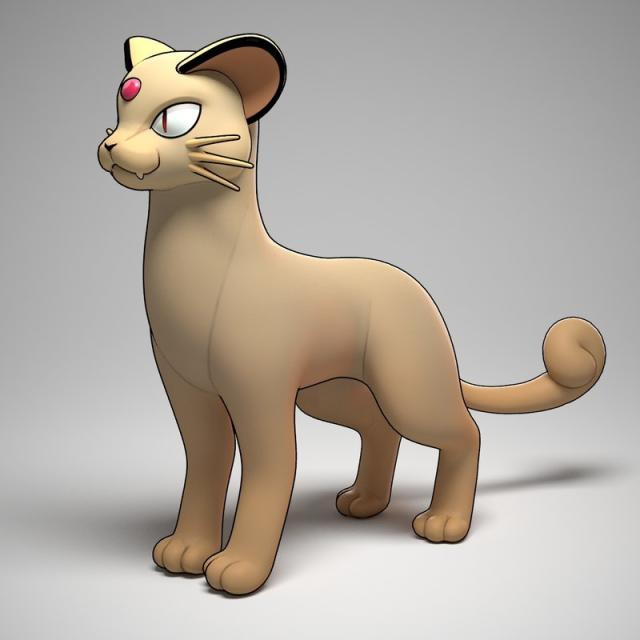Persian: (93, 45, 484, 569)
